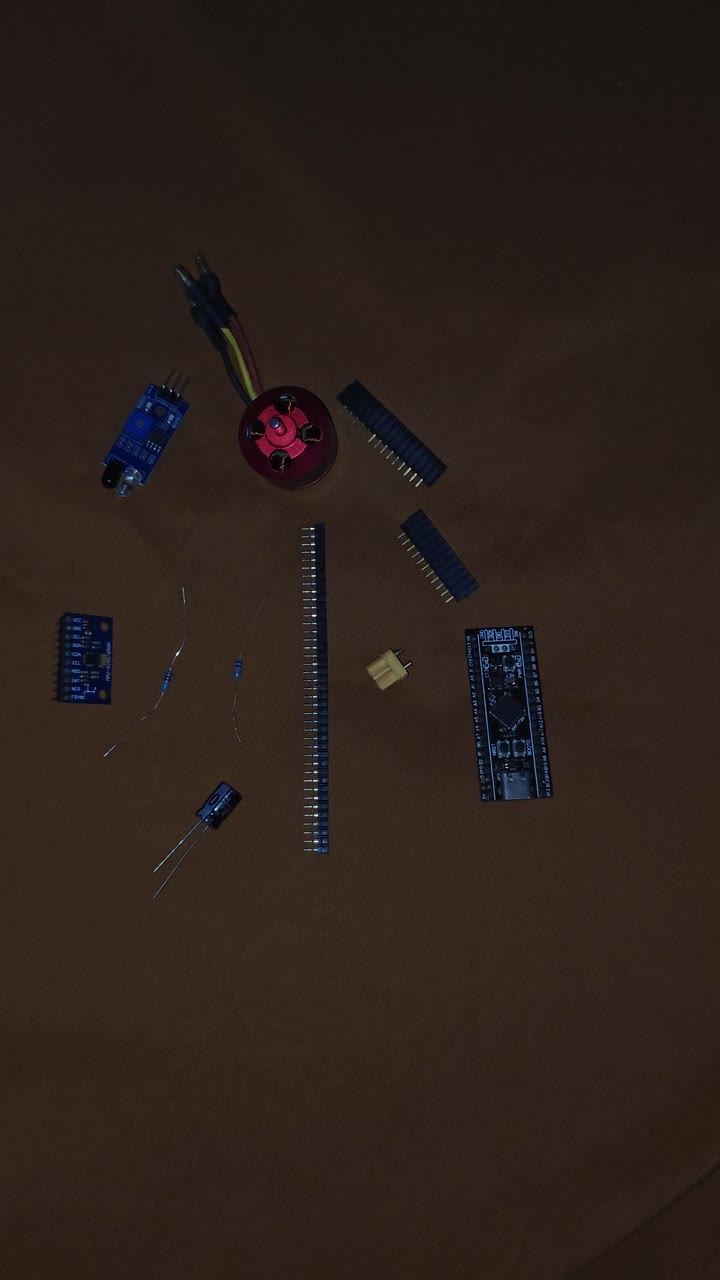bldc_motor: (212, 171, 398, 442)
elco_capacitor: (223, 711, 299, 810)
ir_sensor: (124, 322, 253, 456)
mpu6500: (69, 552, 179, 671)
pin_header: (322, 459, 406, 823), (376, 295, 516, 440), (426, 435, 558, 572)
resistor: (155, 523, 250, 724), (252, 534, 323, 722)
stm32f4: (498, 557, 620, 794)
xt30_female: (392, 579, 477, 664)
